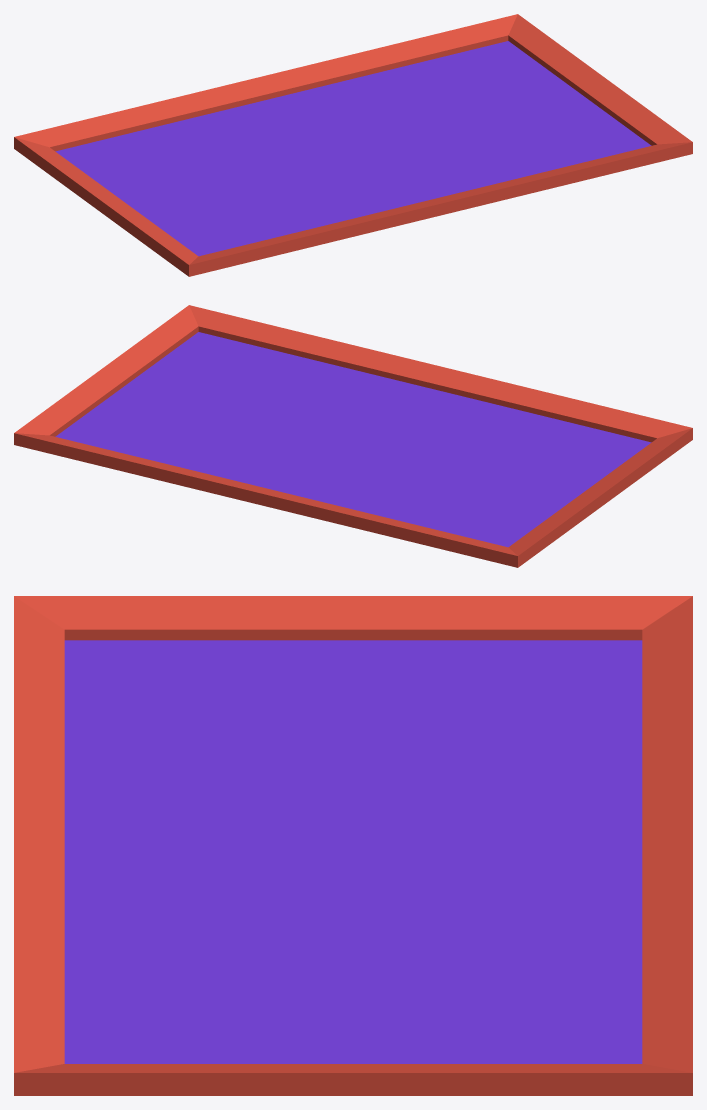
File: 16_9Frame.fbx
3 renders of one model, top to bottom at view 1: azimuth 30°, elevation 25°; view 2: azimuth 150°, elevation 25°; view 3: azimuth 270°, elevation 25°, orthographic. The views are drawn at different scales.
Parts seen in each view (by area): view 1: 16_9Frame; view 2: 16_9Frame; view 3: 16_9Frame.
Boxes of the visible parts, x1,y1,x2,y2 form: 16_9Frame: (14, 14, 692, 276); 16_9Frame: (14, 305, 692, 567); 16_9Frame: (14, 596, 692, 1095).
Size of the model in its own units: 156 by 3.5 by 94.
